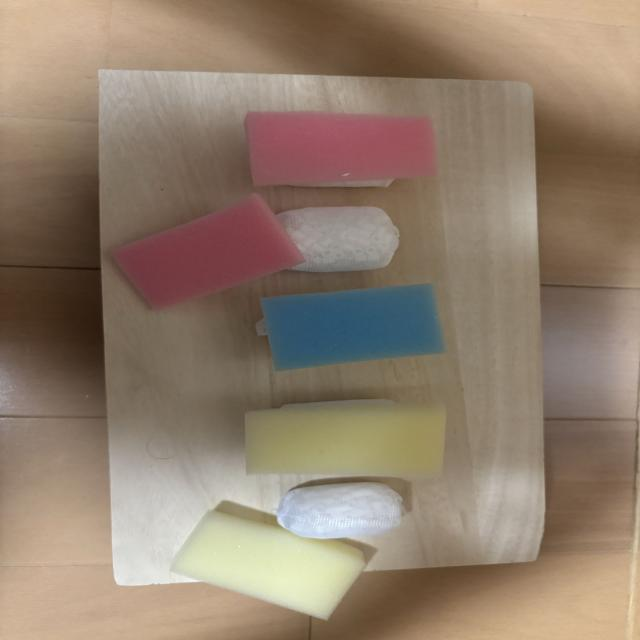NG: (113, 194, 399, 308), (171, 482, 402, 619)
ika: (261, 283, 445, 371)
tai: (244, 111, 437, 187)
tamago: (244, 400, 447, 477)
